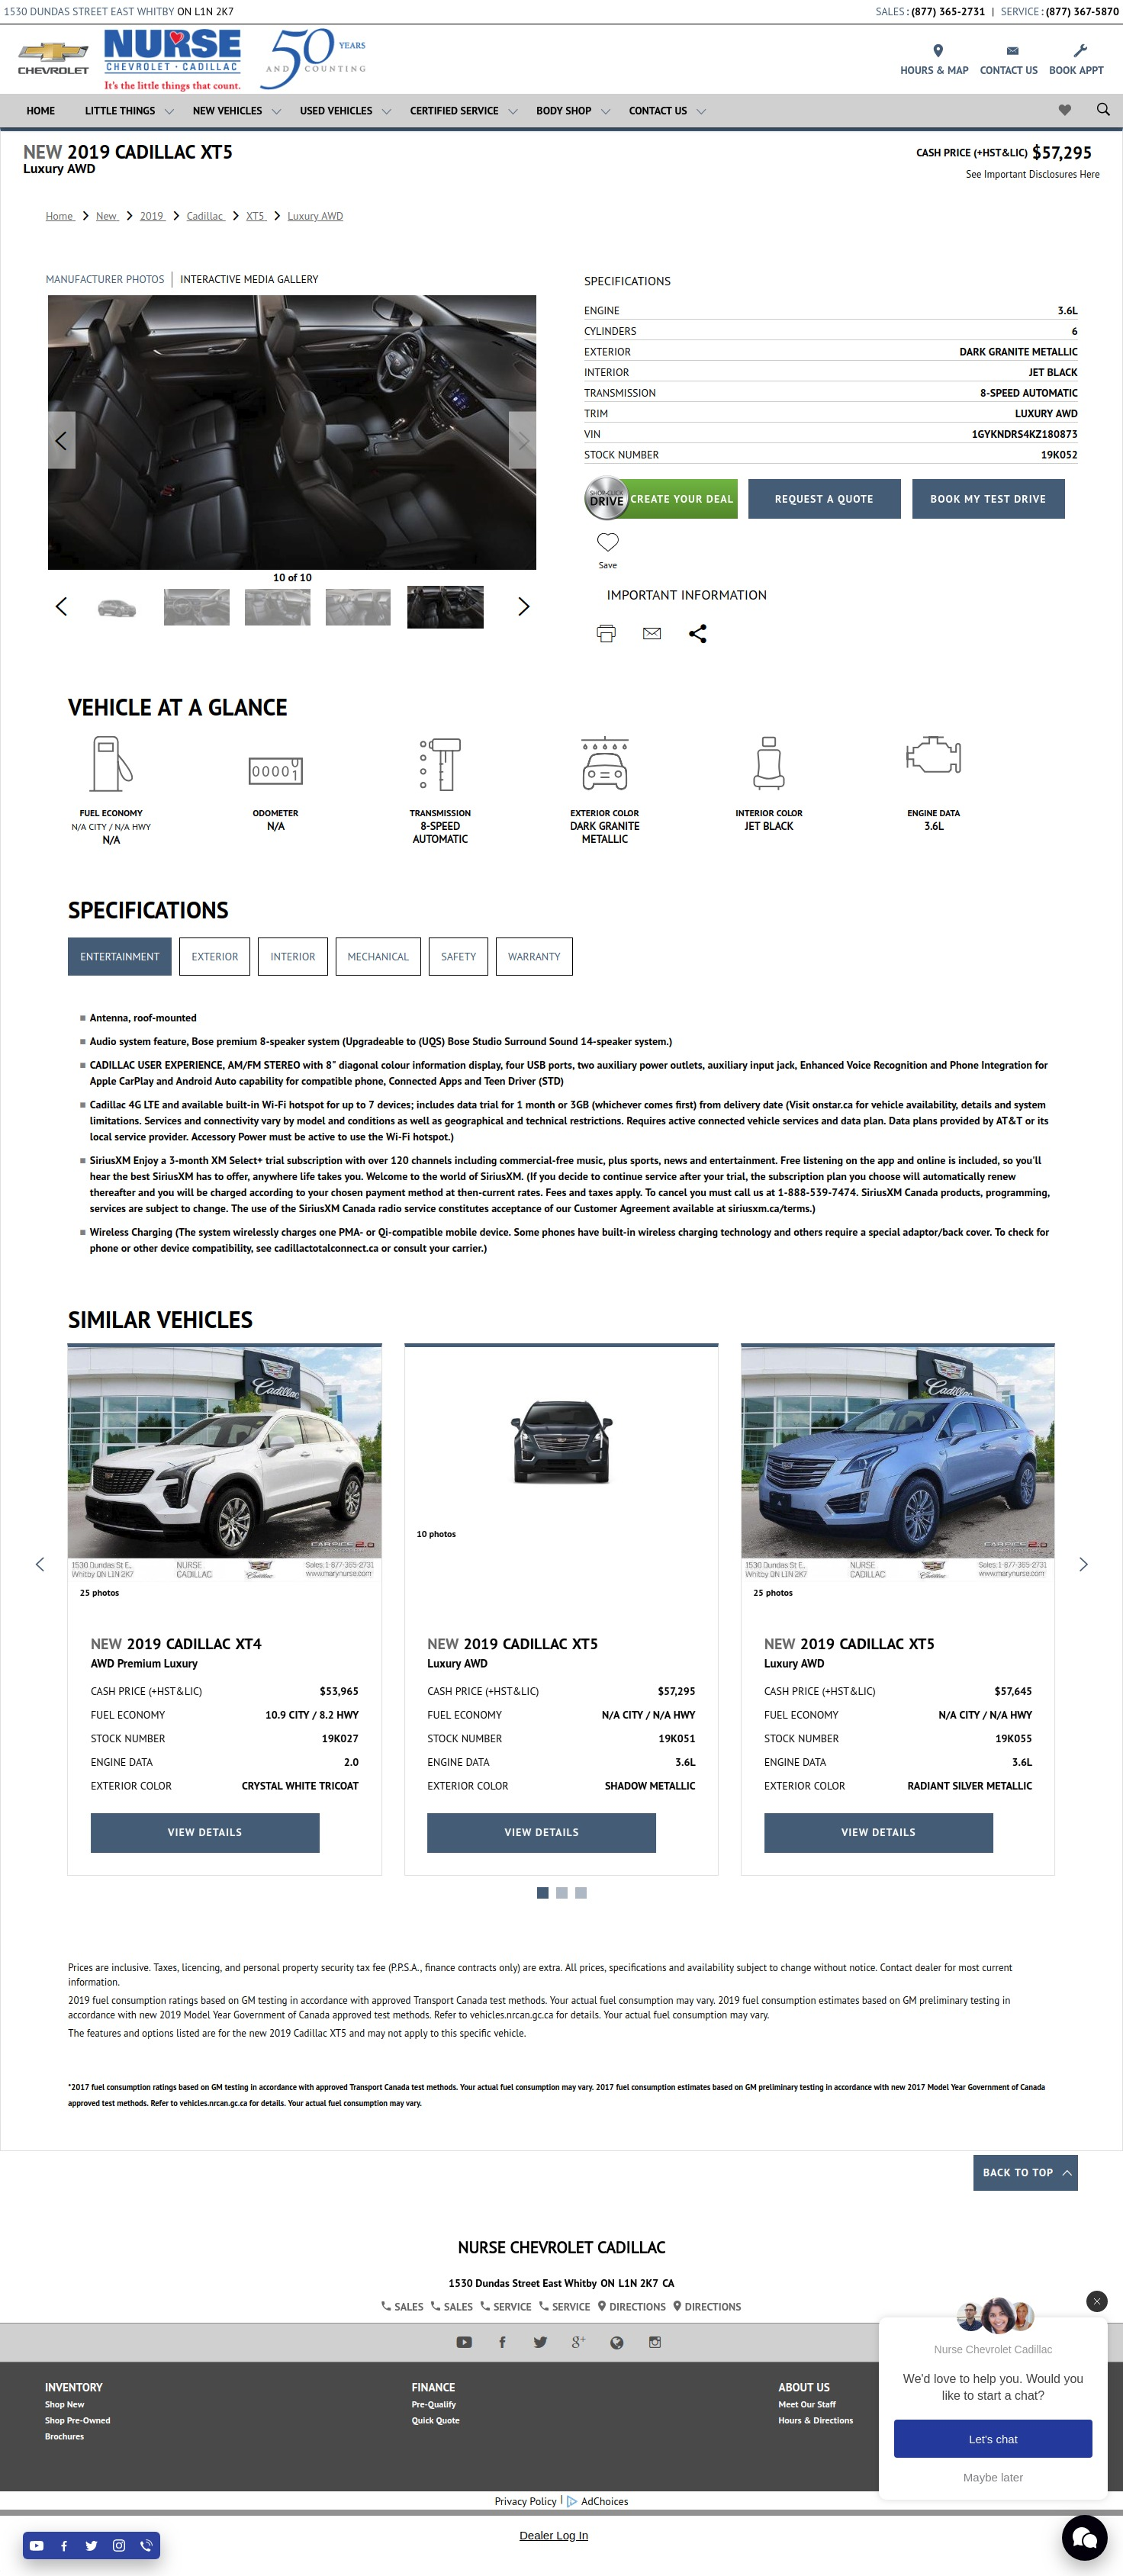car: (518, 596, 531, 618)
